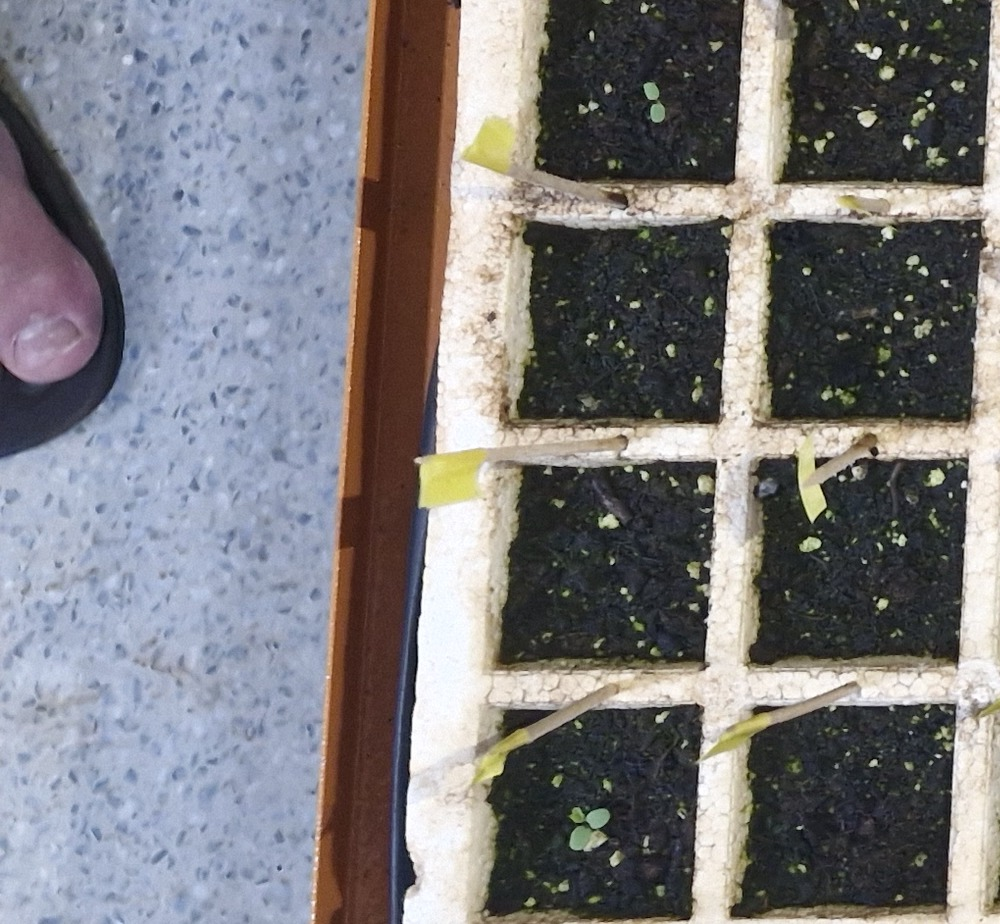Folha: (568, 826, 591, 851), (586, 808, 610, 829), (568, 807, 586, 823), (643, 83, 659, 100), (650, 106, 665, 122)
Germinacao: (569, 808, 611, 850), (644, 81, 665, 122)
